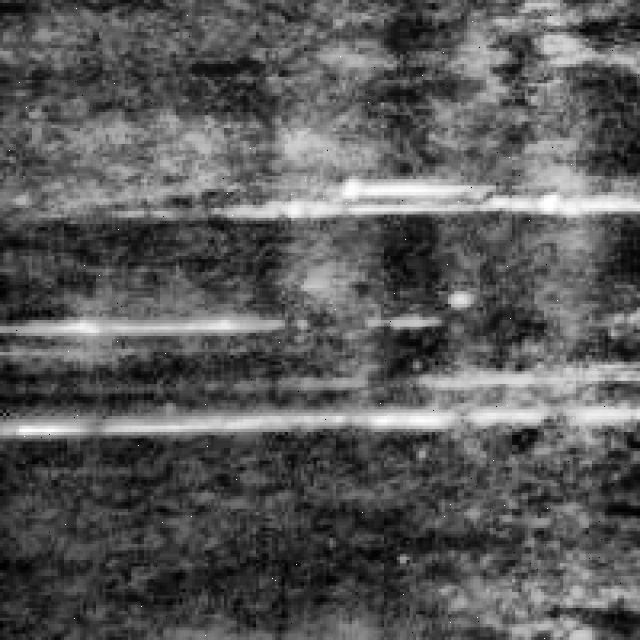Inclusion: (10, 374, 640, 451), (157, 170, 640, 224), (13, 300, 285, 340)
